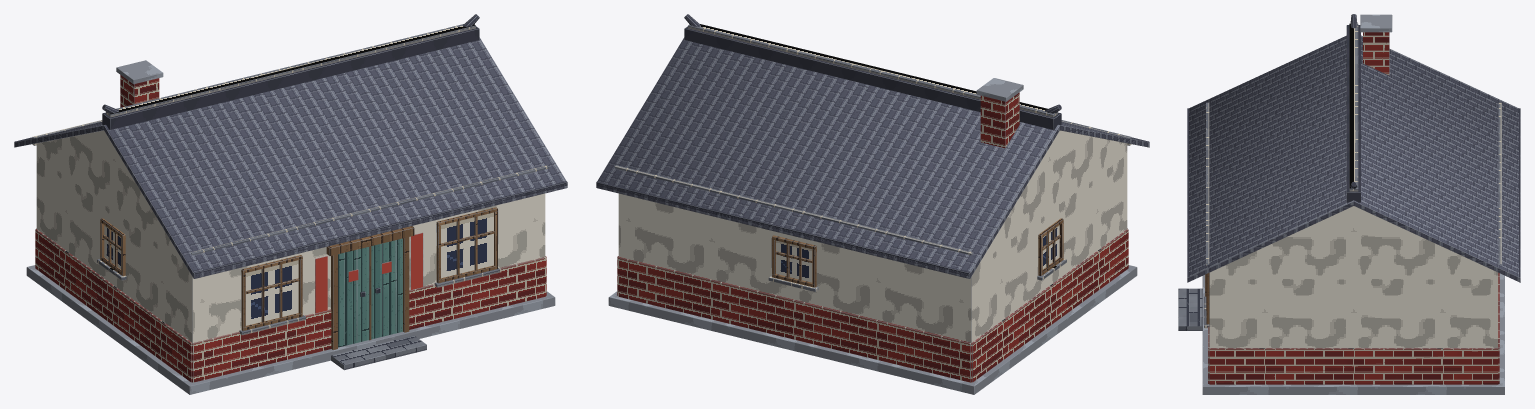
The model's file is cn_brick_house_2.glb.
The picture shows the model from 3 angles, left to right: view 1: azimuth 30°, elevation 25°; view 2: azimuth 150°, elevation 25°; view 3: azimuth 270°, elevation 25°; orthographic projection. The views are drawn at different scales.
Parts seen in each view (by area): view 1: cn_brick_house_3; view 2: cn_brick_house_3; view 3: cn_brick_house_3.
Part boxes in pixels (<box>): cn_brick_house_3: <box>14,14,567,394</box>; cn_brick_house_3: <box>596,14,1149,394</box>; cn_brick_house_3: <box>1178,14,1520,394</box>.
Size of the model in its own units: 9.07 by 5.66 by 7.7.
14 materials, 14 textured.
